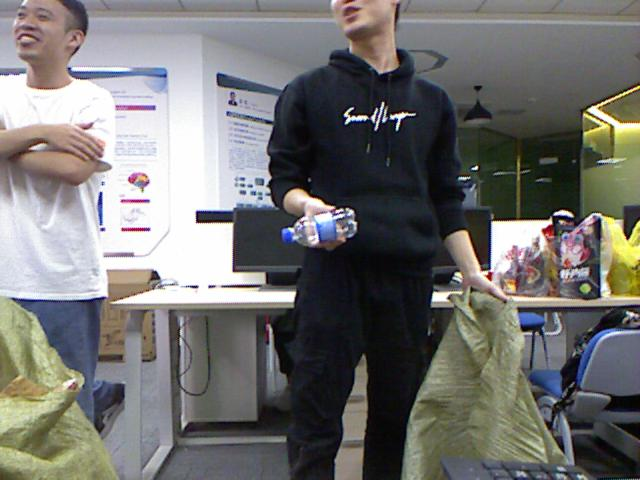cardboard paper: (101, 271, 151, 359)
plastic: (281, 208, 357, 247)
